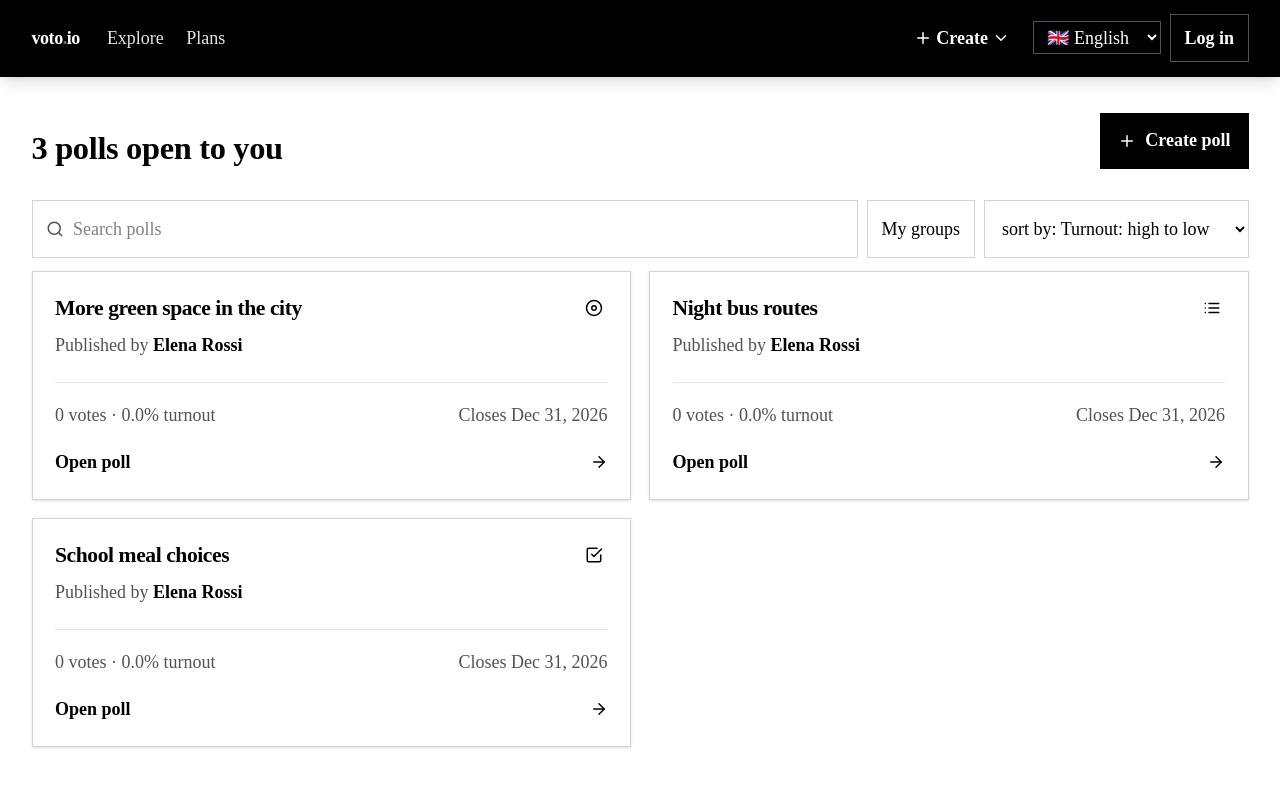
Test: Home › updates the title count when searching polls
The width and height of the screenshot is (1280, 800).
Expected: the heading "3 polls open to you" is shown, [32,128,283,169]
Type "Night bus" into the field labelled "Search polls". click: (458, 229)
box: [73,201,844,257]
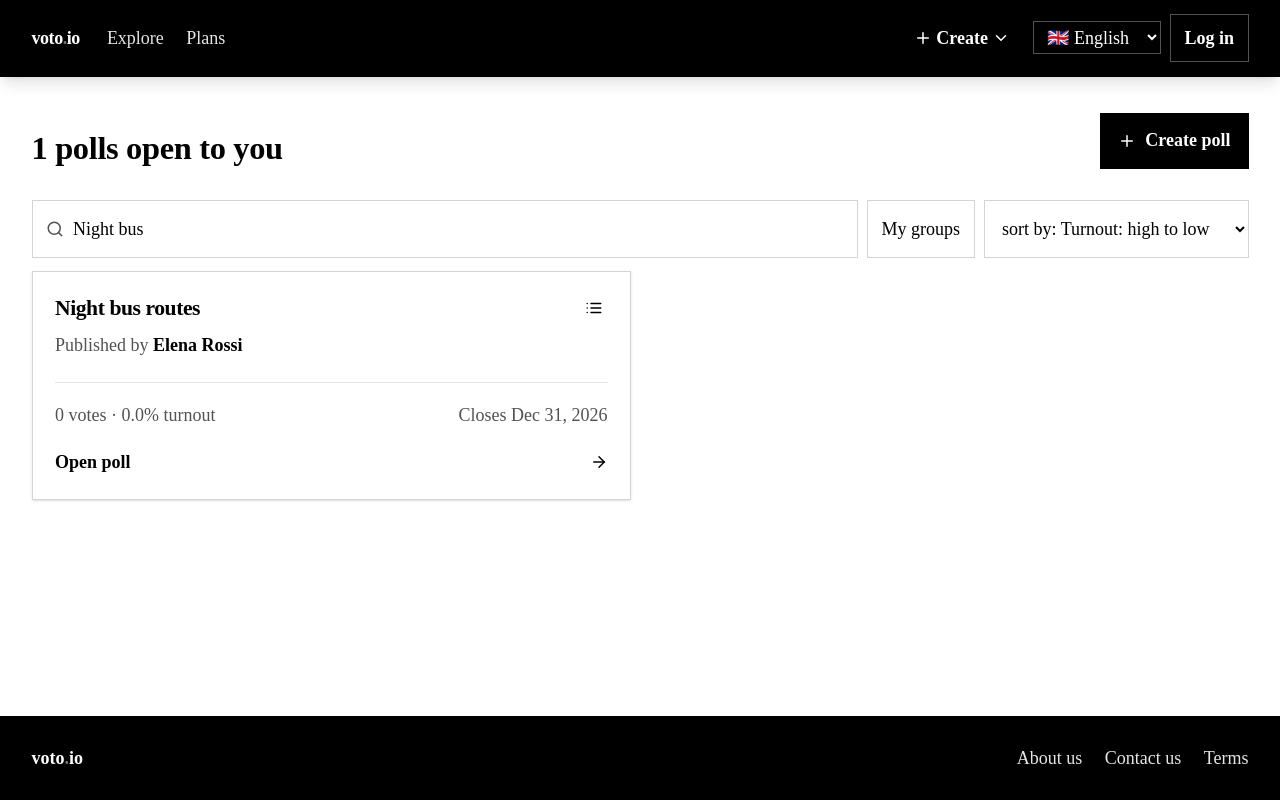
Expected: the heading "1 polls open to you" is shown, [32,128,283,169]
Replace the text in the field named "Search polls" with "No matching title". click: (458, 229)
box: [73,201,844,257]
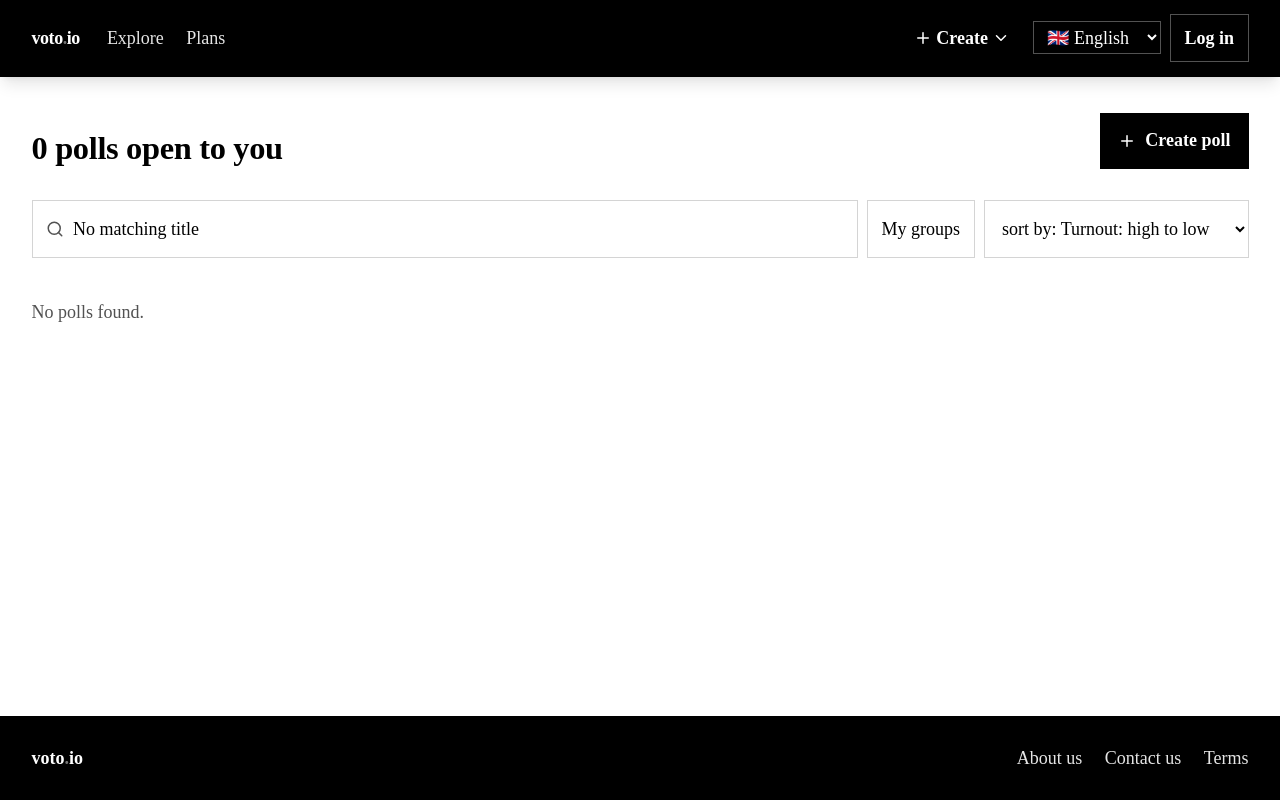
Expected: the heading "0 polls open to you" is shown, [32,128,283,169]
